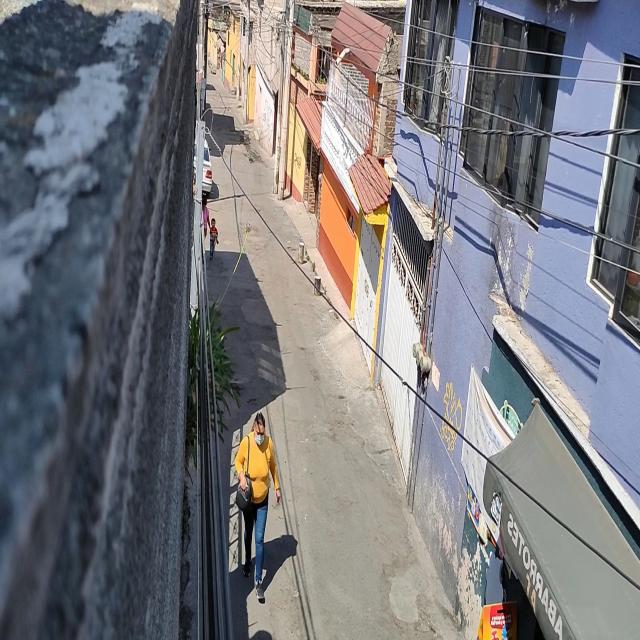adult: (235, 412, 281, 604)
